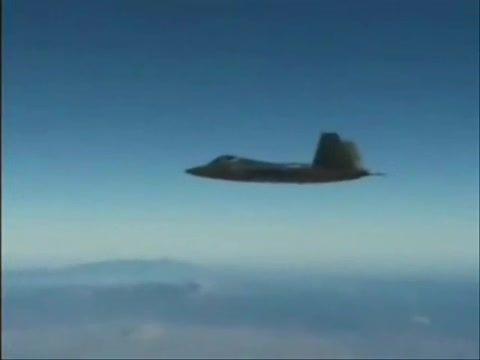aeroplane: (185, 133, 388, 185)
